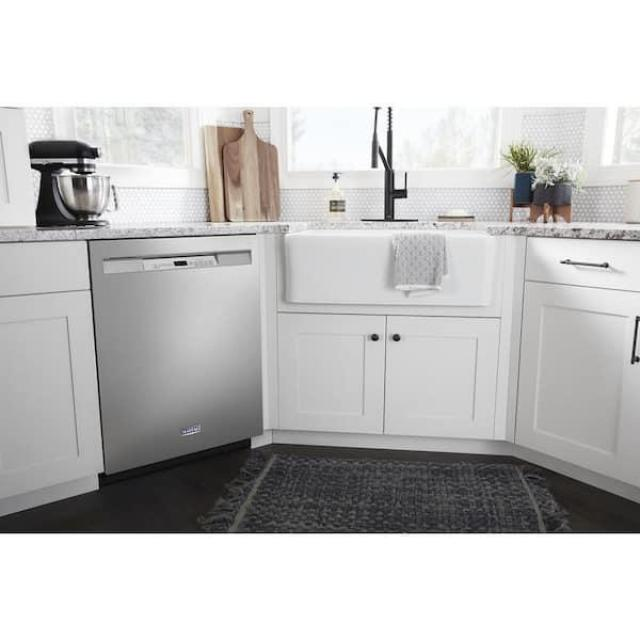dishwasher: (86, 236, 271, 474)
